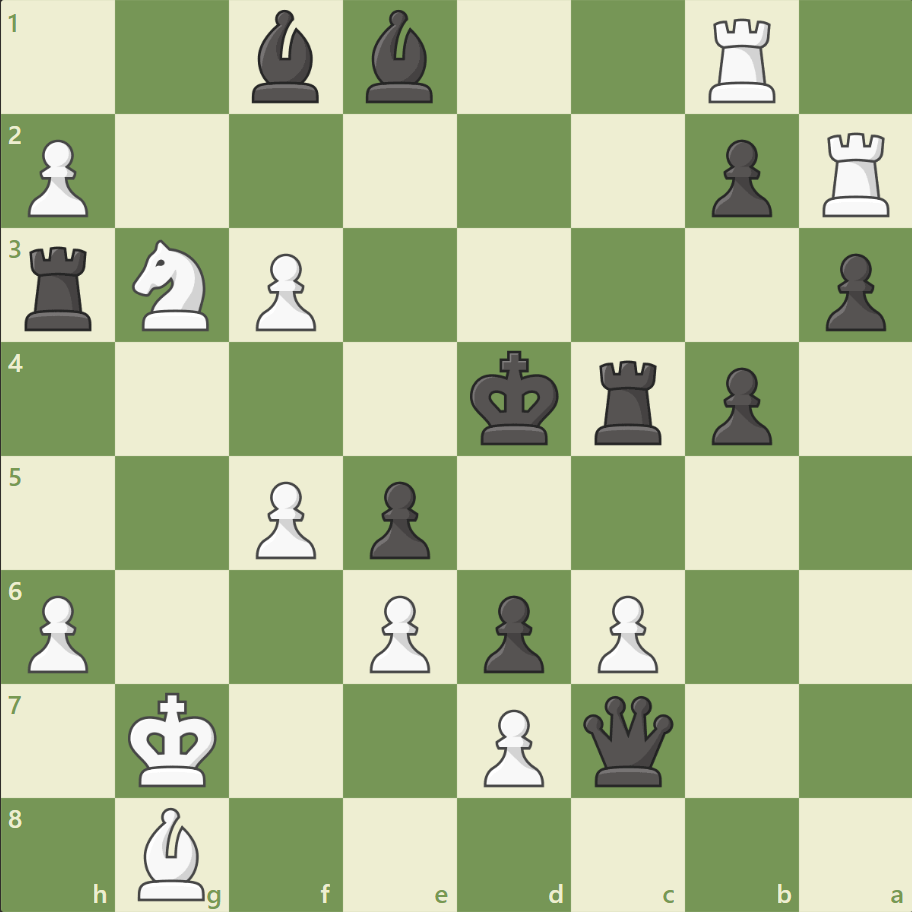B: (131, 801, 215, 904)
K: (124, 685, 224, 793)
N: (124, 234, 222, 337)
P: (474, 700, 549, 791), (20, 586, 95, 677), (247, 473, 322, 564), (247, 246, 322, 337), (20, 132, 95, 223), (588, 586, 662, 677), (361, 586, 435, 677)
R: (814, 125, 897, 222), (700, 12, 783, 109)
b: (358, 6, 442, 109), (244, 6, 328, 109)
k: (465, 344, 565, 452)
p: (474, 586, 549, 677), (701, 359, 776, 450), (701, 132, 776, 223), (361, 473, 435, 564), (815, 246, 889, 337)
q: (578, 690, 677, 789)
r: (587, 352, 670, 449), (19, 239, 102, 336)
